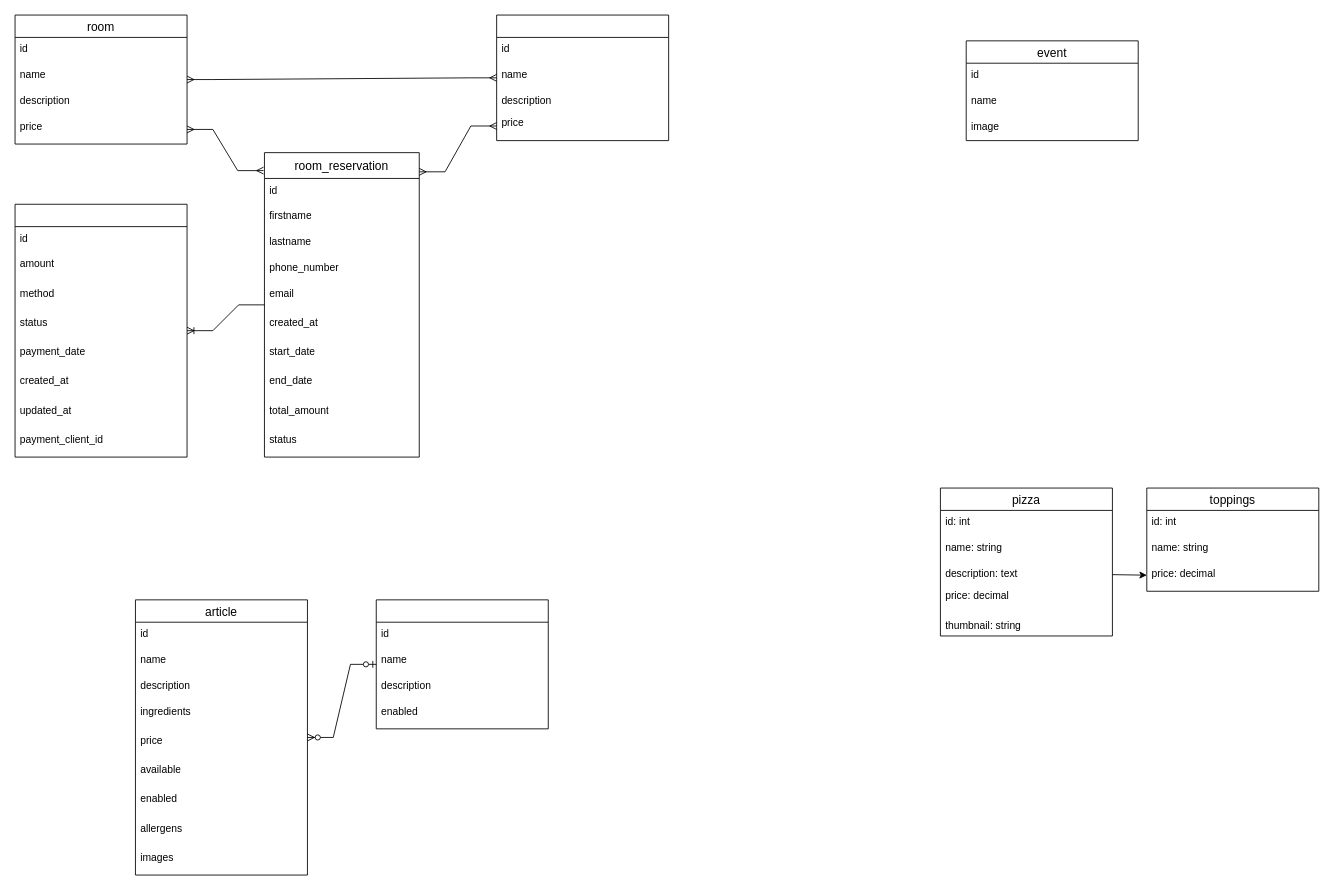
Image size: 1334x893. Some labels were removed from this diagram. Each missing label, with the box of its shape:
article_category: (375, 599, 548, 729)
room_option: (496, 14, 669, 141)
room_reservation_payment: (14, 203, 187, 457)
